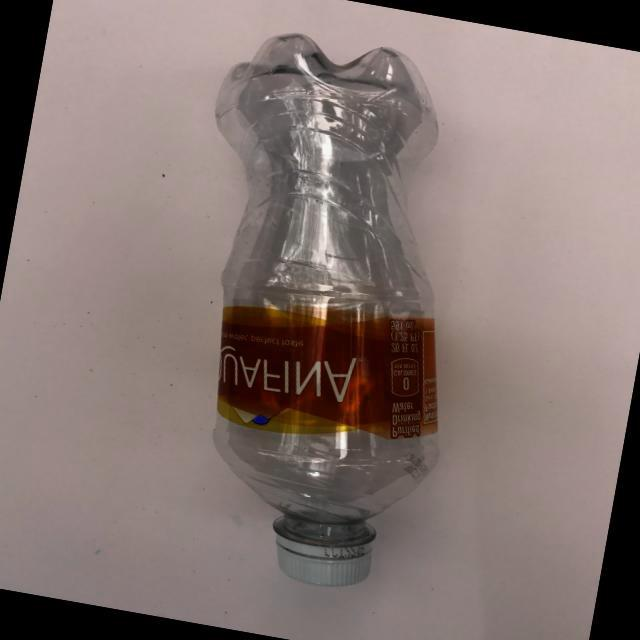plastic: (72, 5, 540, 618)
